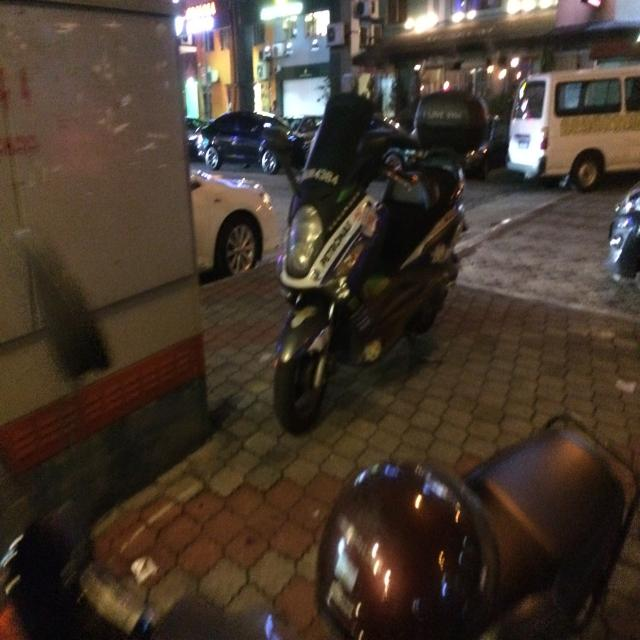Motorbike: (264, 93, 468, 446)
